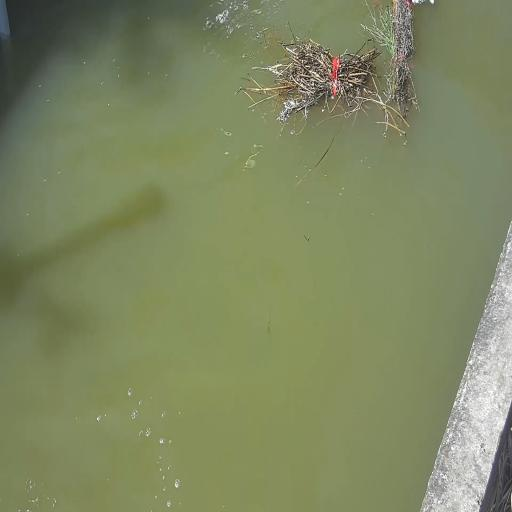twig: (278, 39, 380, 128), (376, 0, 432, 115)
